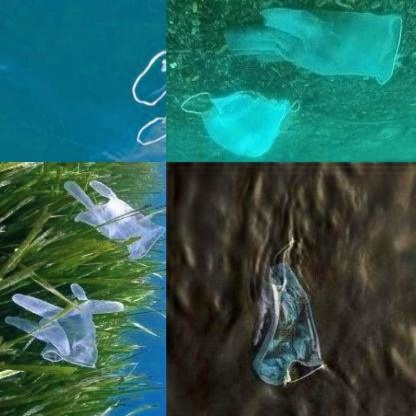Mask: (249, 236, 327, 384), (180, 89, 302, 161), (106, 18, 166, 161)
glove: (224, 7, 405, 85), (3, 282, 129, 371), (61, 178, 165, 262)
